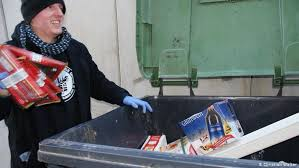Dumpster: (37, 1, 299, 167)
Person: (1, 1, 152, 130)
